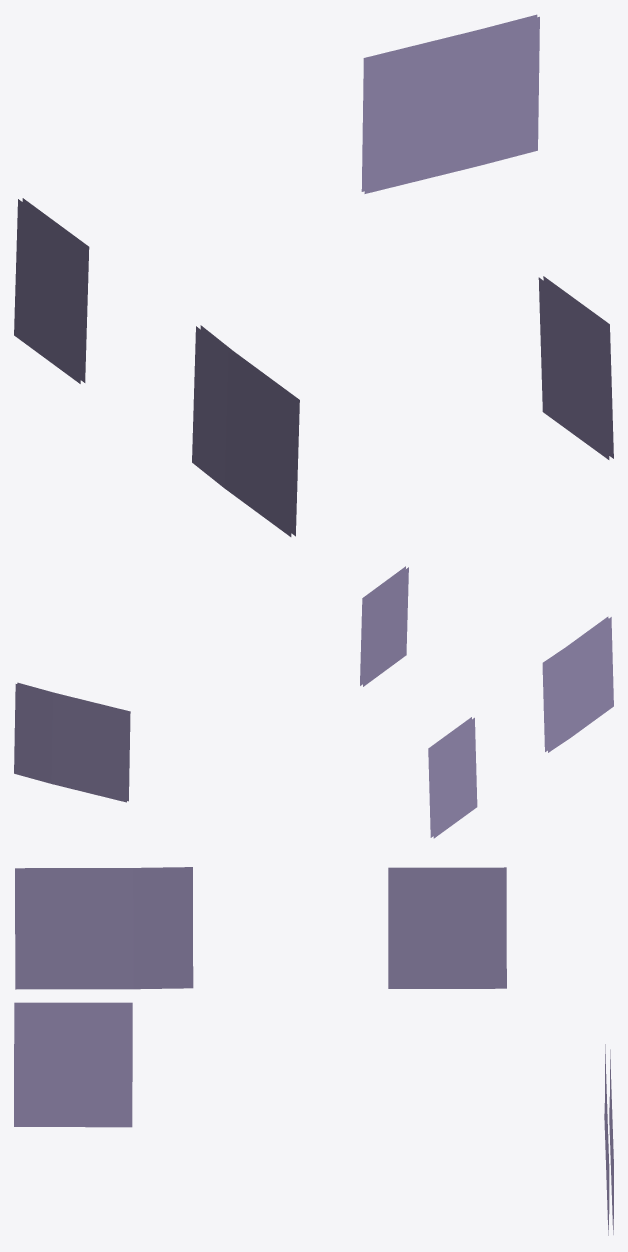
File: HouseVar1(Window).fbx
The picture shows the model from 3 angles, top to bottom: view 1: azimuth 30°, elevation 25°; view 2: azimuth 150°, elevation 25°; view 3: azimuth 270°, elevation 25°; orthographic projection. The views are drawn at different scales.
Visible parts, largest first — view 1: Cube.001; view 2: Cube.001; view 3: Cube.001.
Boxes of the visible parts, box(x1,y1,x2,y2) form: Cube.001: box(14, 14, 613, 536); Cube.001: box(14, 566, 613, 838); Cube.001: box(14, 867, 613, 1235).
Size of the model in its own units: 969 by 219 by 973.
